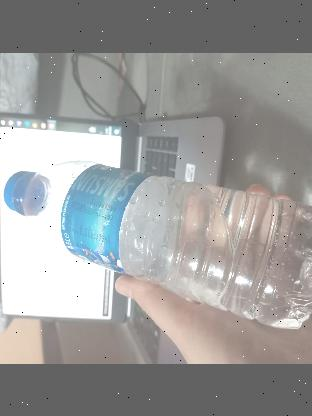Plastic Bottle: (3, 161, 312, 322)
